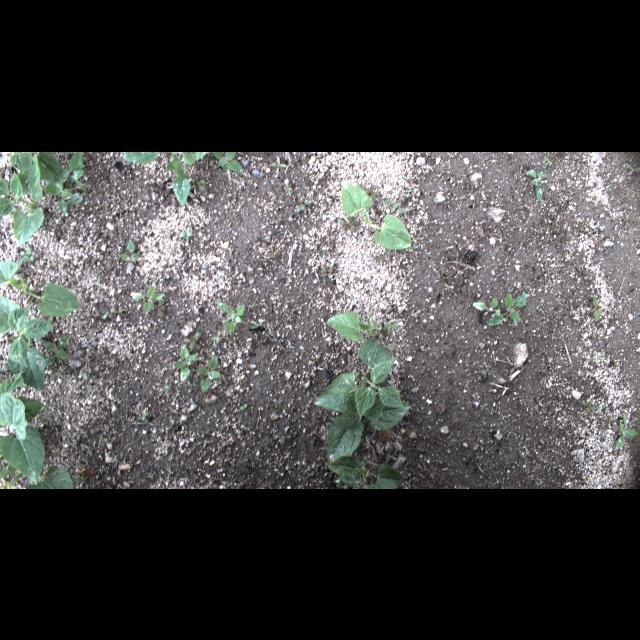crop: (315, 338, 407, 419), (0, 392, 74, 488), (326, 391, 412, 469), (0, 295, 56, 391), (342, 178, 412, 250), (0, 370, 44, 484), (0, 260, 84, 316), (0, 154, 44, 248), (327, 456, 403, 488), (10, 152, 68, 188), (326, 310, 382, 340)
weed: (122, 152, 214, 204), (41, 168, 90, 215), (488, 293, 528, 325), (36, 332, 70, 368), (216, 300, 248, 332), (614, 412, 638, 450), (66, 151, 88, 191), (129, 286, 165, 310), (198, 355, 220, 393), (174, 345, 196, 381), (119, 238, 141, 274), (211, 151, 243, 173), (526, 168, 546, 200), (472, 296, 500, 316), (338, 214, 362, 232), (589, 296, 603, 320), (273, 428, 291, 446), (269, 330, 285, 350), (271, 154, 287, 174), (188, 330, 204, 350), (20, 246, 36, 264), (152, 296, 166, 316), (385, 200, 407, 212), (184, 336, 202, 350), (580, 398, 596, 412), (366, 184, 380, 198), (210, 329, 224, 343), (624, 162, 640, 174), (296, 200, 312, 212), (384, 322, 398, 334), (224, 334, 238, 346), (102, 307, 116, 319), (387, 444, 397, 460), (377, 454, 389, 466), (298, 193, 306, 210), (372, 252, 383, 264), (380, 326, 390, 338), (420, 364, 430, 376), (240, 457, 252, 467), (180, 228, 192, 238), (72, 225, 84, 235), (354, 276, 368, 284), (336, 480, 349, 488), (382, 340, 392, 350), (544, 156, 552, 168), (250, 320, 262, 328), (322, 264, 334, 272), (284, 182, 292, 194), (198, 178, 206, 190), (573, 154, 579, 168), (371, 198, 379, 208), (357, 183, 367, 191), (220, 270, 224, 286), (76, 475, 84, 483), (160, 385, 170, 391), (104, 232, 114, 238), (177, 318, 186, 324), (593, 355, 601, 361), (240, 403, 248, 409), (84, 390, 90, 398), (354, 369, 358, 379), (404, 461, 410, 467), (402, 192, 410, 196), (142, 412, 146, 420), (48, 215, 52, 222), (607, 183, 611, 189), (536, 304, 540, 310), (250, 464, 256, 468), (205, 347, 209, 353), (227, 222, 231, 226), (118, 308, 125, 310), (237, 152, 243, 154), (455, 152, 459, 154)
